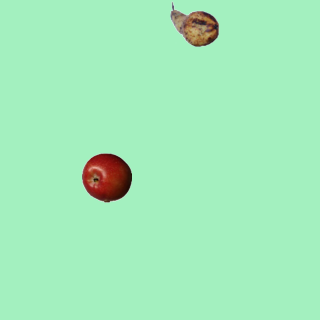Apple Braeburn: (81, 152, 131, 202)
Pear Abate: (169, 0, 219, 49)
